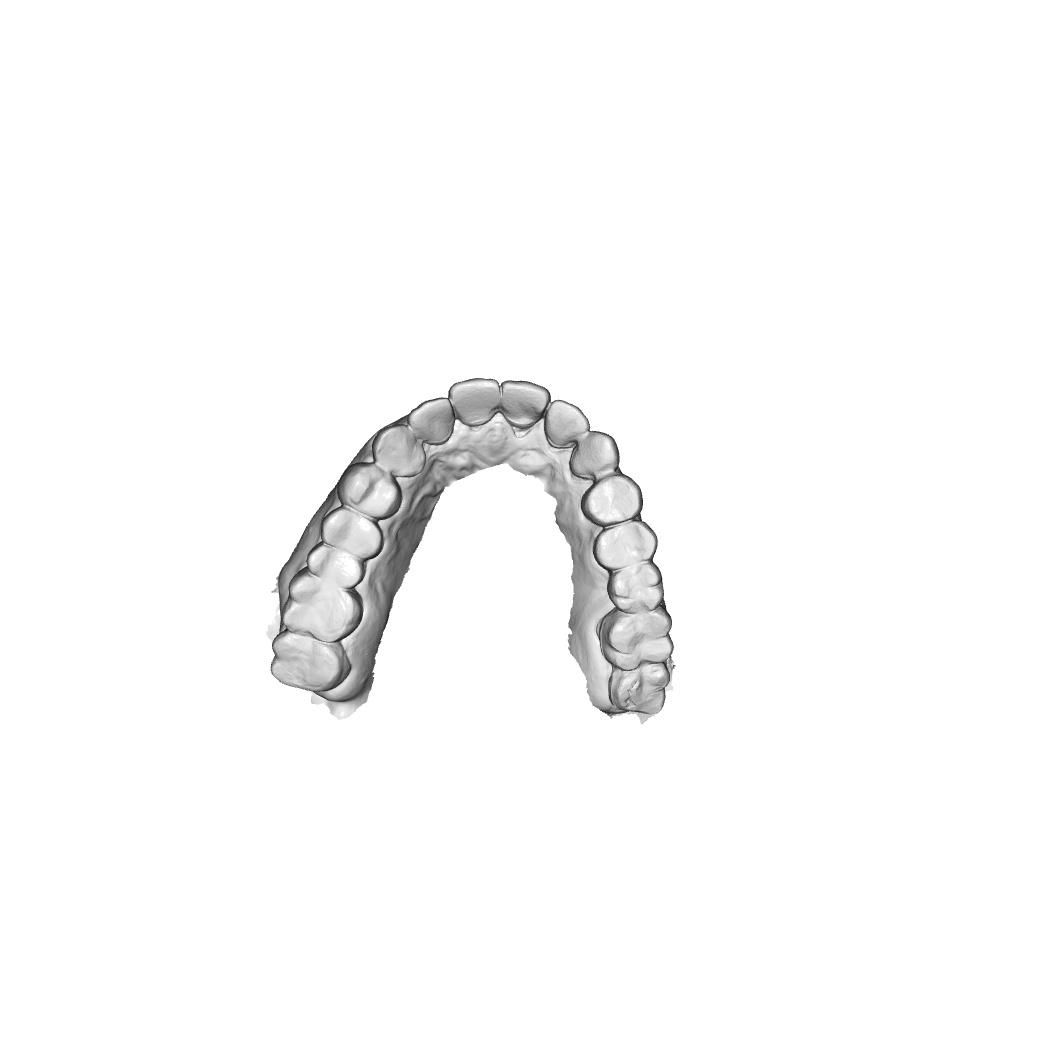canine: (336, 462, 403, 521), (580, 472, 645, 527)
incisor: (371, 423, 427, 478), (447, 377, 501, 428), (500, 379, 552, 430), (569, 430, 621, 480), (407, 396, 456, 446), (543, 399, 591, 448)
molar: (281, 567, 364, 644), (269, 629, 352, 693), (594, 608, 673, 669), (604, 664, 667, 716)
premolar: (592, 519, 659, 572), (320, 506, 384, 560), (606, 562, 665, 615), (306, 541, 365, 590)
